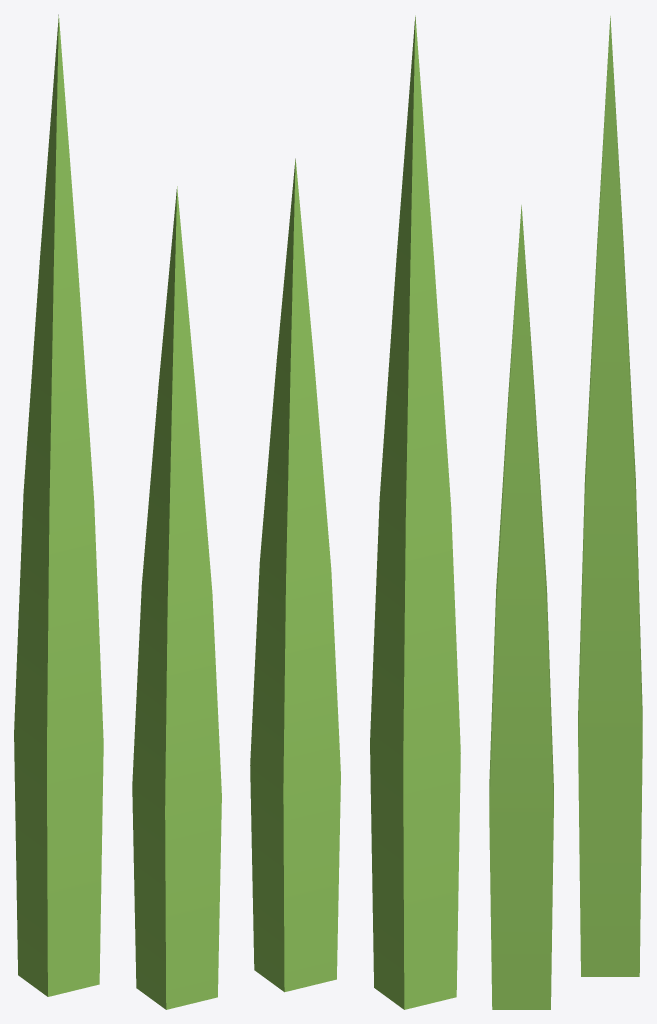
File: Grass_v4.fbx
3 renders of one model, left to right at view 1: azimuth 30°, elevation 25°; view 2: azimuth 210°, elevation 25°; view 3: azimuth 270°, elevation 25°, orthographic. The views are drawn at different scales.
Visible parts, largest first — view 1: pCube3, pCube2; view 2: pCube3, pCube2; view 3: pCube3, pCube2.
Part boxes in pixels (box(x1,y1,x2,y2)): pCube3: box(14, 14, 103, 996); pCube2: box(132, 186, 221, 1009); pCube3: box(370, 15, 460, 1009); pCube2: box(250, 158, 340, 992); pCube3: box(578, 16, 642, 976); pCube2: box(489, 205, 553, 1009).
Bounding box in the file's own units: 0.5728 × 4.07 × 0.5948.
